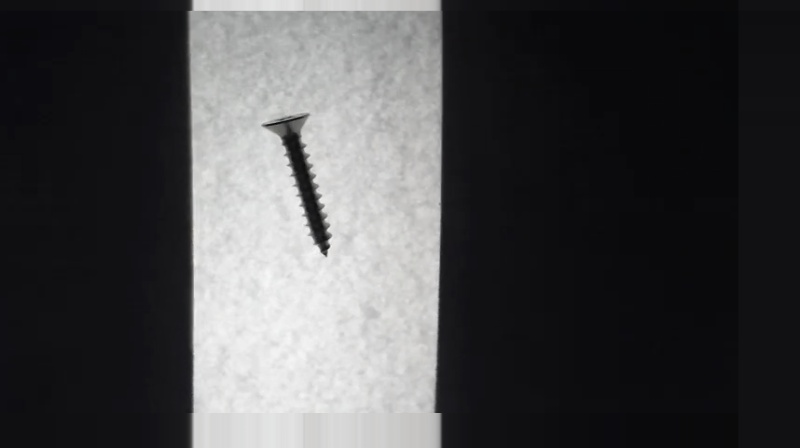S001: (257, 111, 334, 259)
